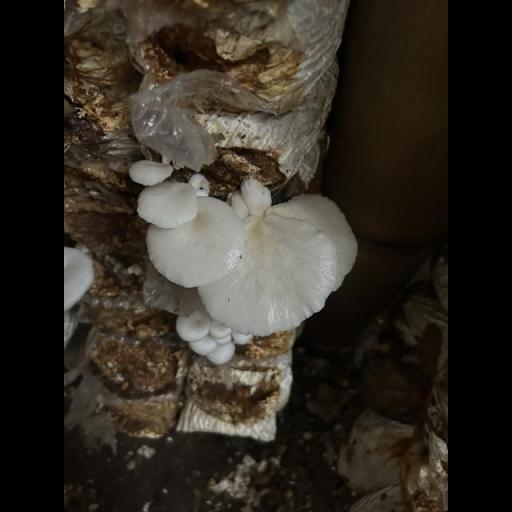White Oyster Mushroom: (122, 149, 362, 367)
